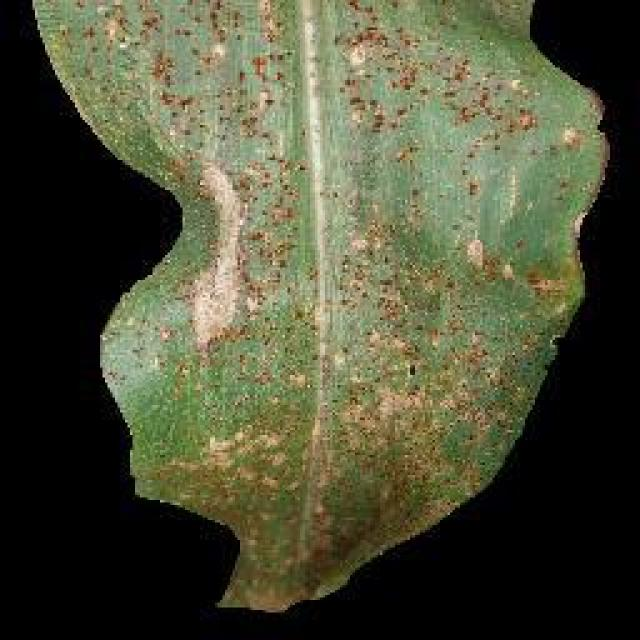Corn Common Rust: (223, 52, 535, 558)
